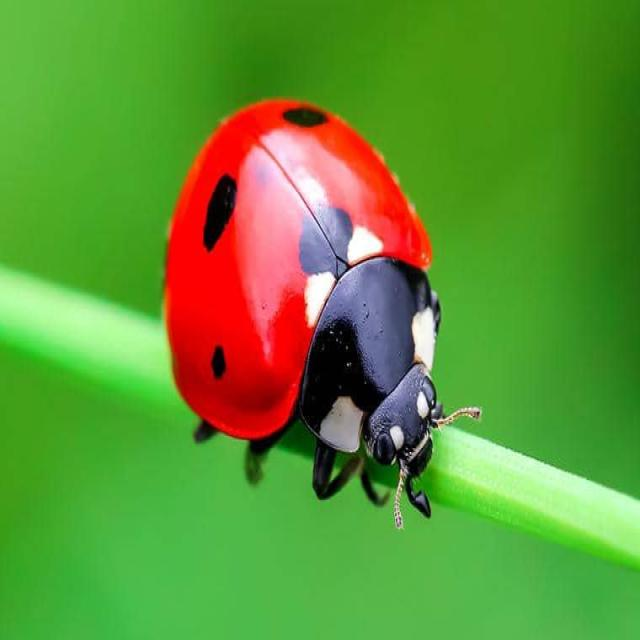ladybug: (165, 99, 442, 496)
